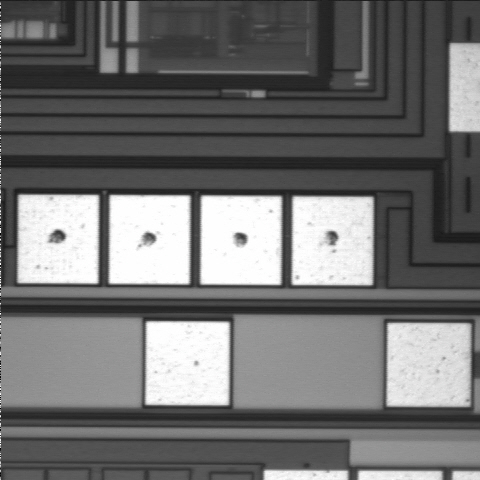pad: (200, 196, 282, 285), (18, 195, 99, 284), (109, 195, 190, 284), (145, 321, 230, 405), (292, 197, 373, 285), (387, 323, 470, 407)
